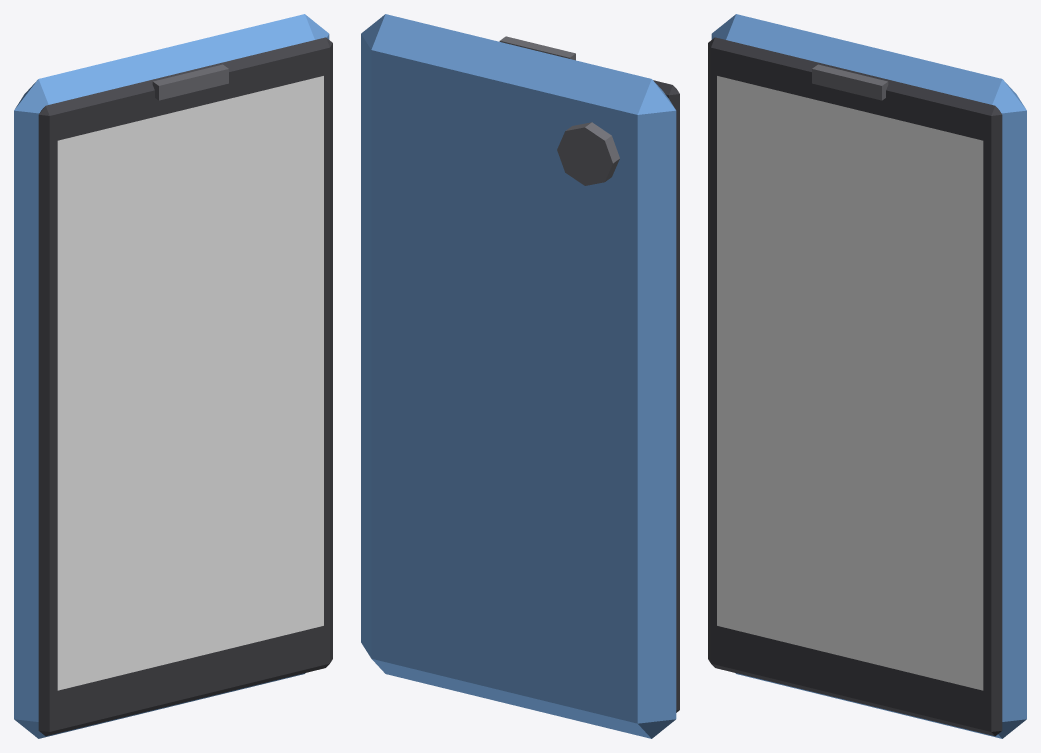
Rendered from prop_phone_01.glb.
The picture shows the model from 3 angles, left to right: view 1: azimuth 30°, elevation 25°; view 2: azimuth 150°, elevation 25°; view 3: azimuth 330°, elevation 25°; orthographic projection.
Parts seen in each view (by area): view 1: prop_phone_01_body; view 2: prop_phone_01_body; view 3: prop_phone_01_body.
Boxes of the visible parts, bbox=[...] form: prop_phone_01_body: bbox=[14, 14, 332, 738]; prop_phone_01_body: bbox=[361, 14, 679, 738]; prop_phone_01_body: bbox=[708, 14, 1026, 738].
Size of the model in its own units: 0.09 by 0.18 by 0.0215.
